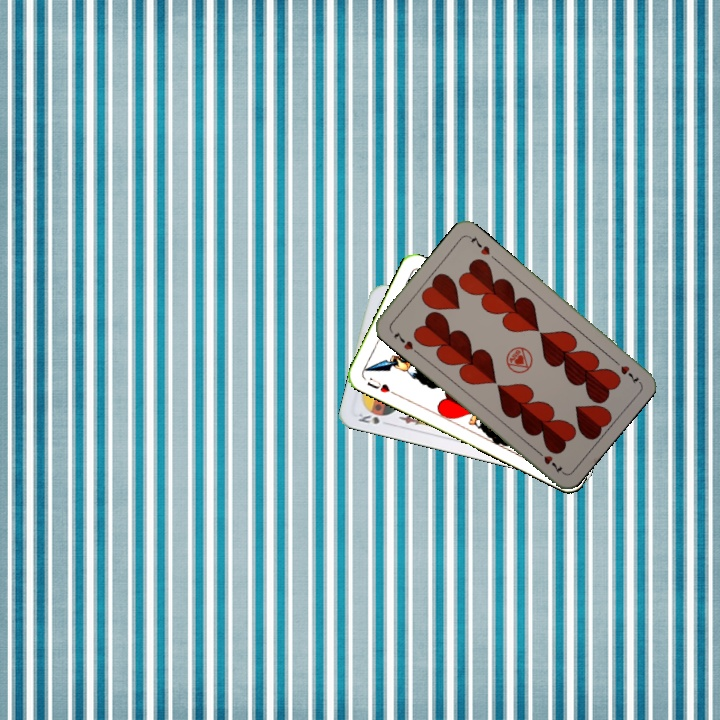H7: (608, 355, 641, 387), (389, 327, 416, 352)
HU: (363, 374, 399, 398)
SK: (353, 408, 388, 427)
